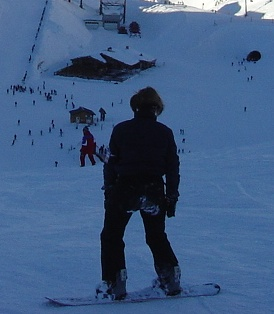person: (93, 84, 182, 301)
